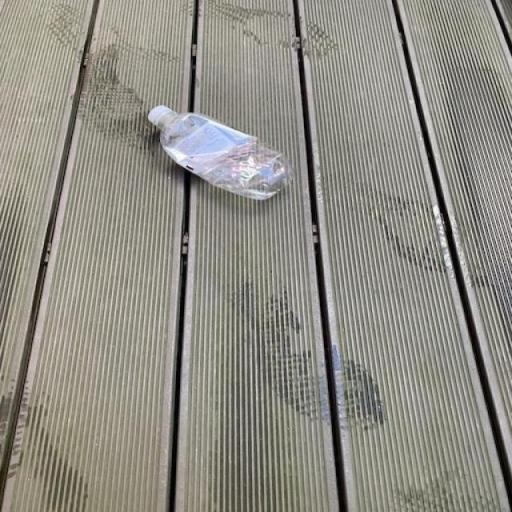plastic: (147, 102, 296, 203)
